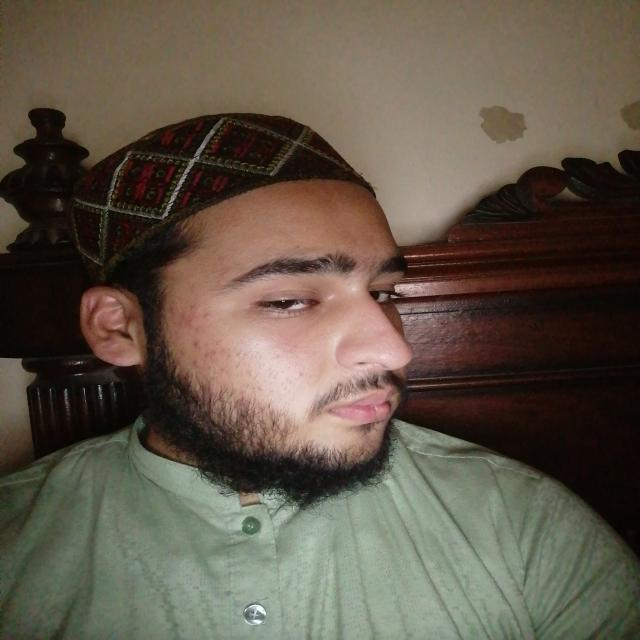Acne: (201, 346, 233, 359), (179, 307, 199, 326), (190, 337, 202, 348), (189, 359, 201, 369), (202, 312, 212, 321), (219, 366, 229, 374), (168, 303, 175, 313), (296, 371, 306, 378), (240, 394, 247, 404), (178, 349, 185, 356)
Blackheads: (274, 342, 300, 362)
